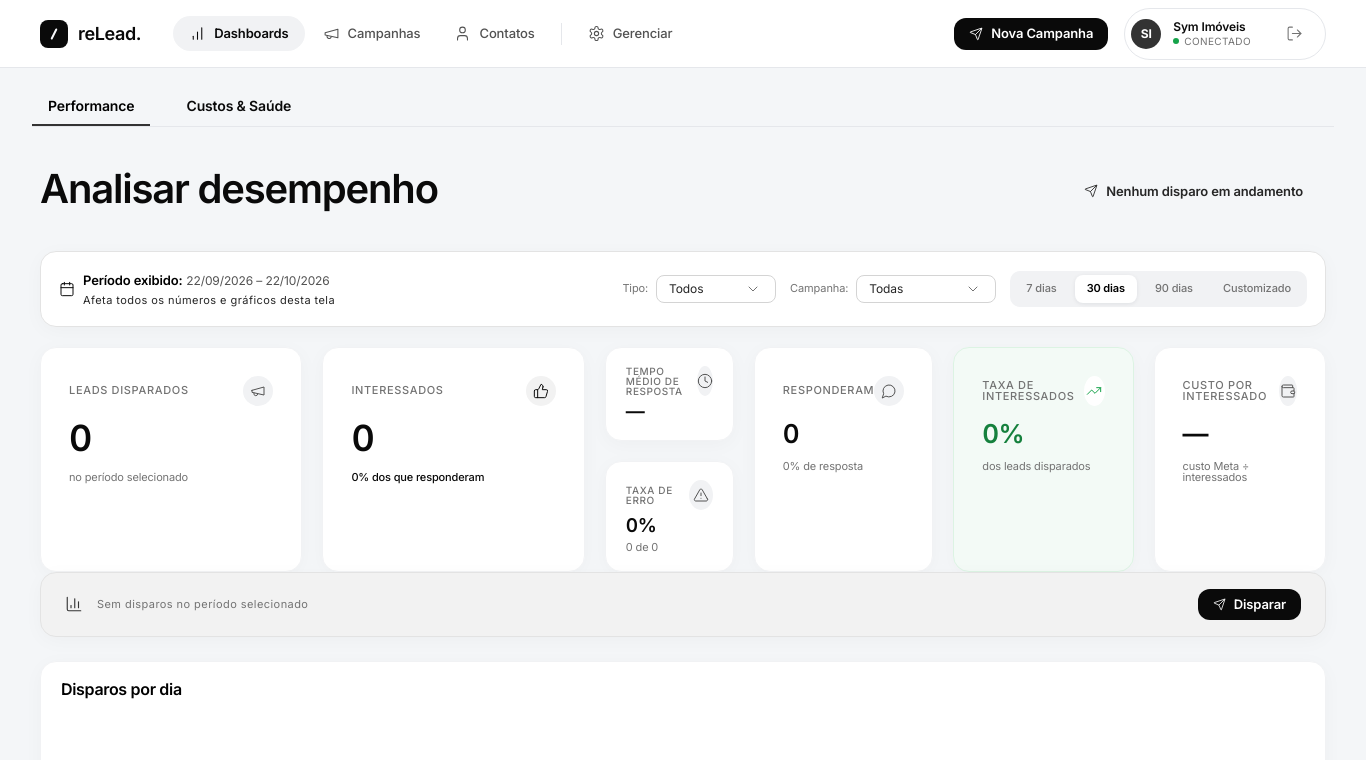
Scenario: DashboardPage - Gerenciar CRUD › CRUD de Templates › deve alternar para a aba gerenciar e listar templates do banco
Click the button "Gerenciar" at (630, 34), box [572,16,688,51]
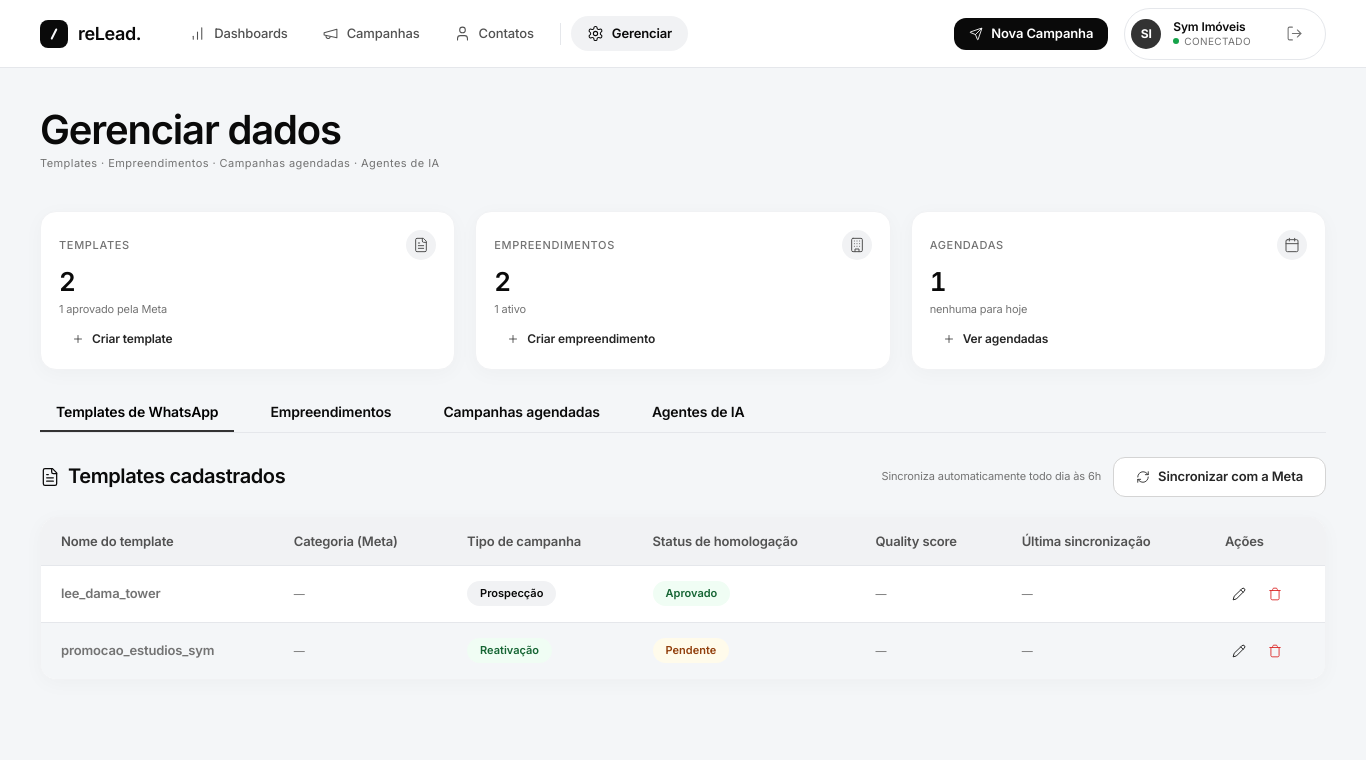
Check: the text "Templates · Empreendimentos · Campanhas agendadas · Agentes de IA" is shown, box [40,156,440,171]
Check: the text "lee_dama_tower" is shown, box [41,565,274,622]
Check: the text "promocao_estudios_sym" is shown, box [41,622,274,679]
